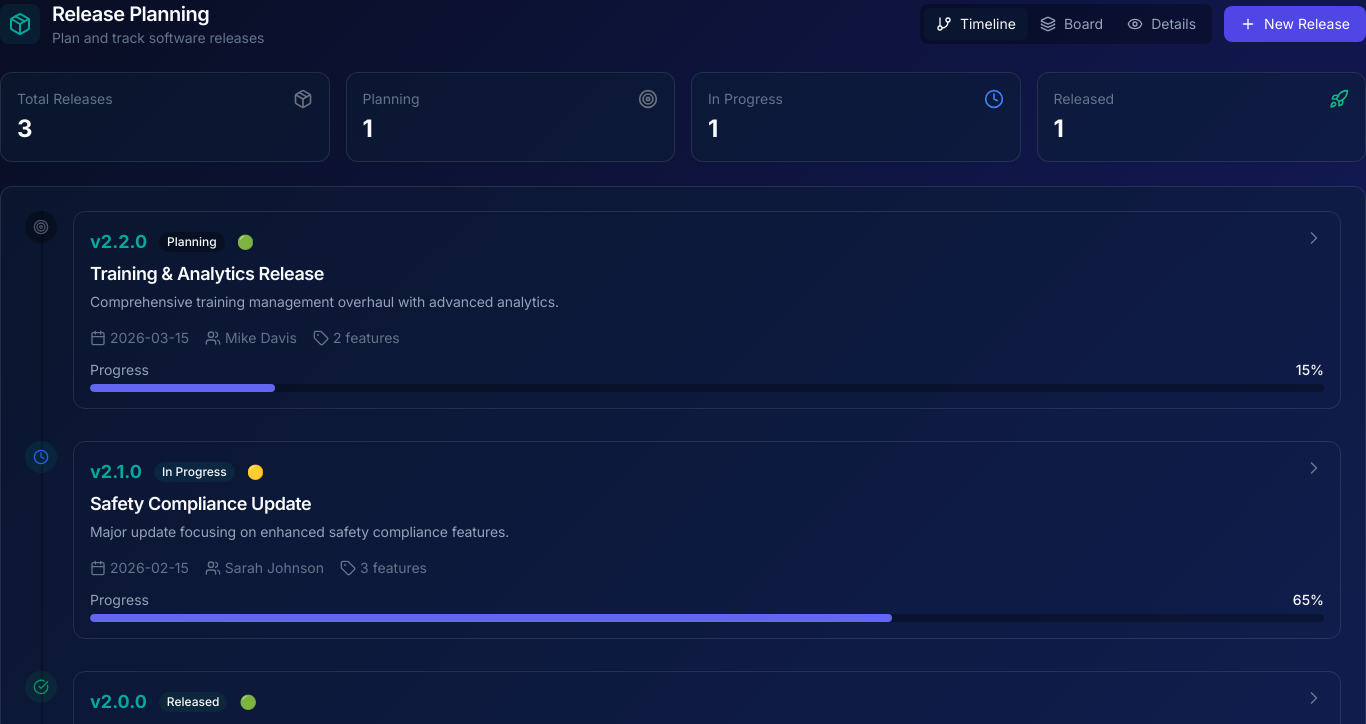
Test: ReleasePlanningView › Details view › shows Release Info section
Step 1. Click the button "Details" → (1162, 24), box [1115,8,1208,40]
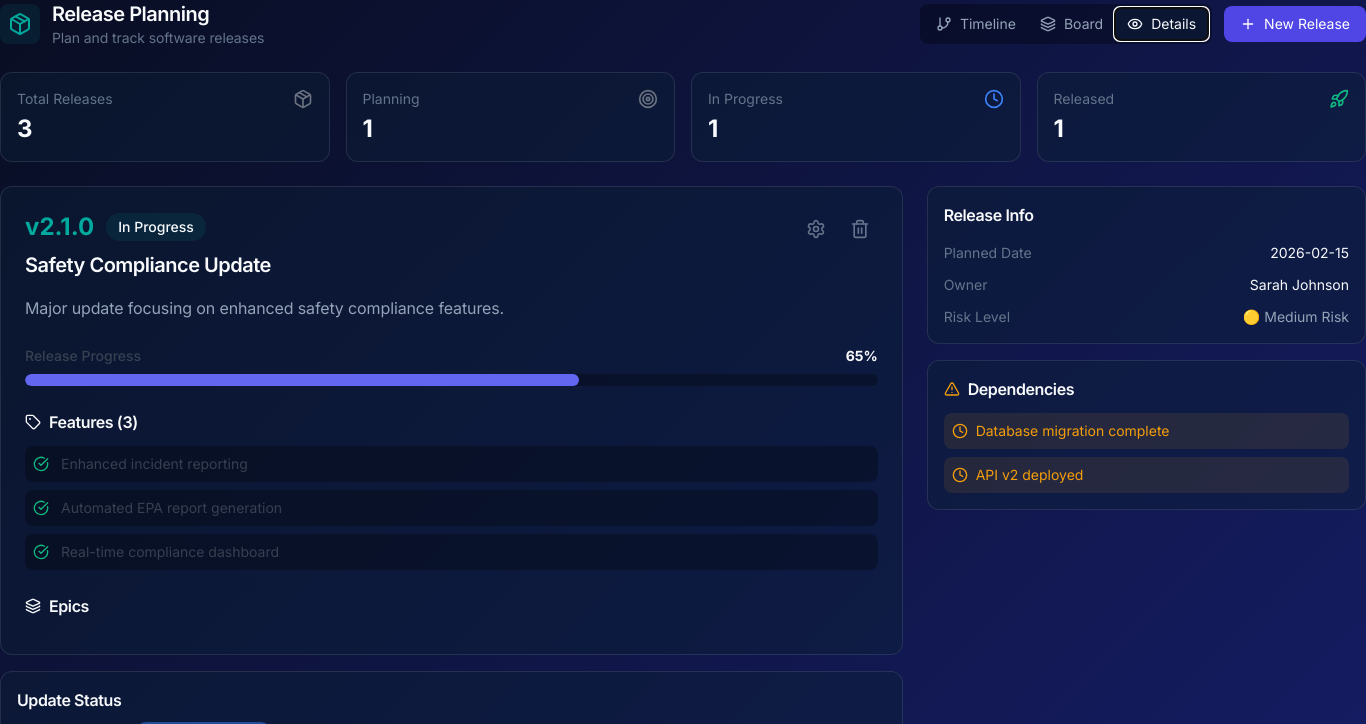
Check: the heading "Release Info" is shown, box [944,205,1034,225]
